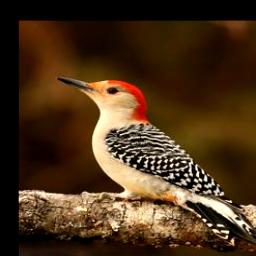Woodpecker: (58, 76, 256, 252)
